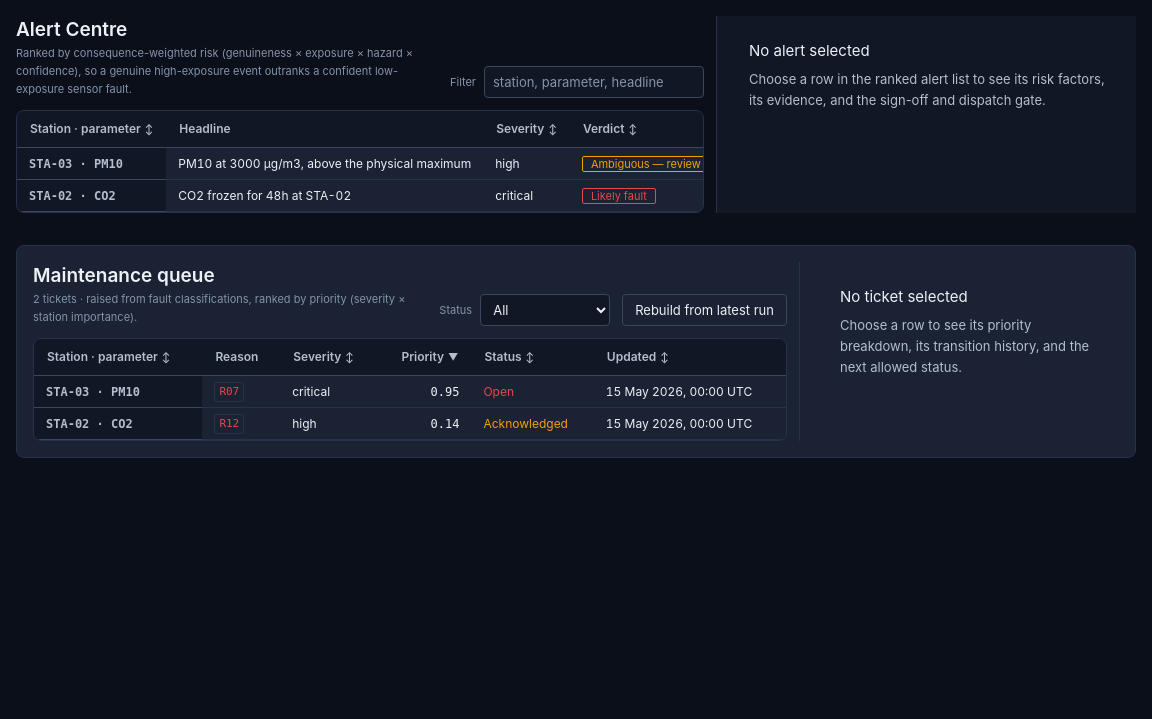
Test: AlertCentre › reuses the trust chip and breakdown components for the station's trust score
Click the 1st row with test id "data-table-row". click: click(584, 164)
box: x1=17 y1=148 x2=1151 y2=180
(page scrolled)
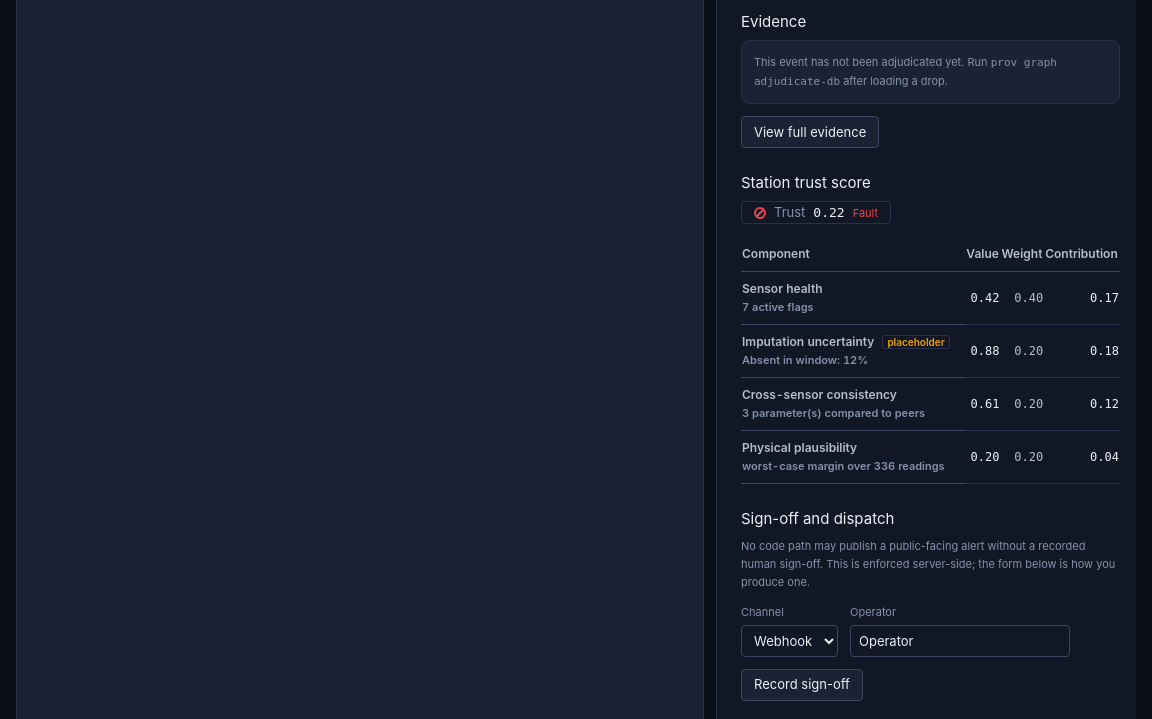
Expected: the element with test id "trust-chip" is shown, x1=741 y1=201 x2=891 y2=224
Expected: the table with test id "trust-breakdown" is shown, x1=741 y1=236 x2=1120 y2=484
